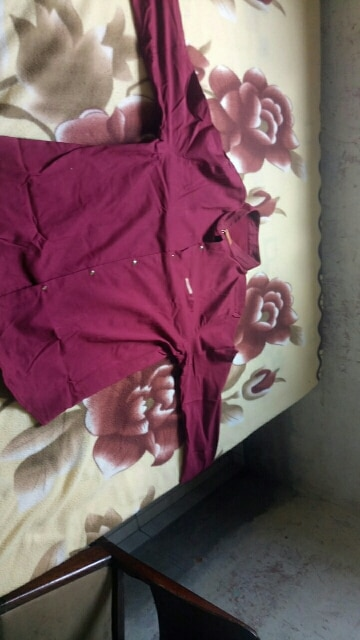shirts: (2, 1, 261, 488)
